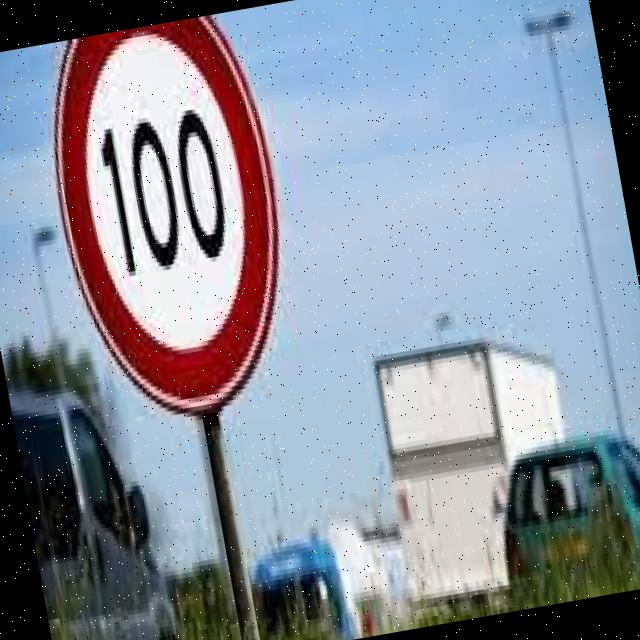speed_limit_100: (22, 6, 322, 434)
